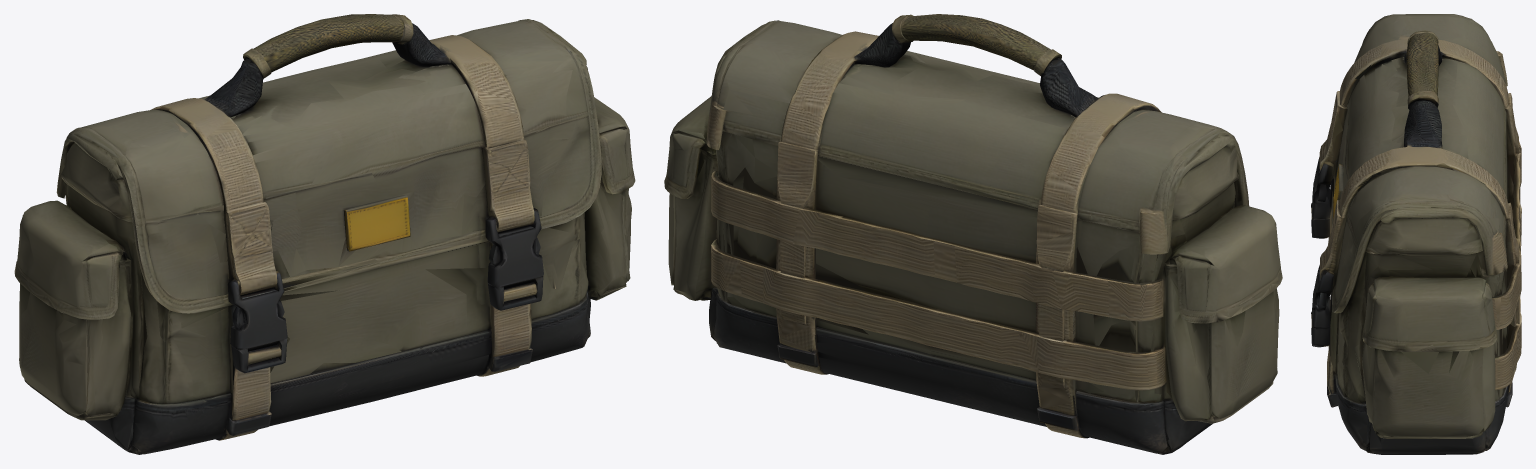
Rendered from Asset_01_LOD1.fbx.
The picture shows the model from 3 angles, left to right: view 1: azimuth 30°, elevation 25°; view 2: azimuth 150°, elevation 25°; view 3: azimuth 270°, elevation 25°; orthographic projection. The views are drawn at different scales.
Visible parts, largest first — view 1: Asset_01_LOD1; view 2: Asset_01_LOD1; view 3: Asset_01_LOD1.
Part boxes in pixels (box(x1,y1,x2,y2)): Asset_01_LOD1: box(14, 14, 635, 454); Asset_01_LOD1: box(664, 14, 1282, 454); Asset_01_LOD1: box(1311, 14, 1521, 454).
Bounding box in the file's own units: 0.5 × 0.2944 × 0.1818.
Materials: 1 (1 with a texture image).
